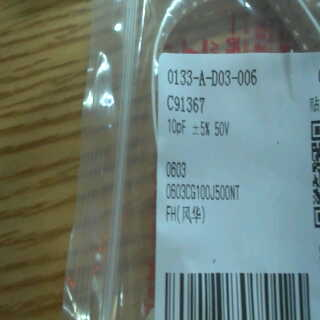10pF: (166, 115, 191, 144)
